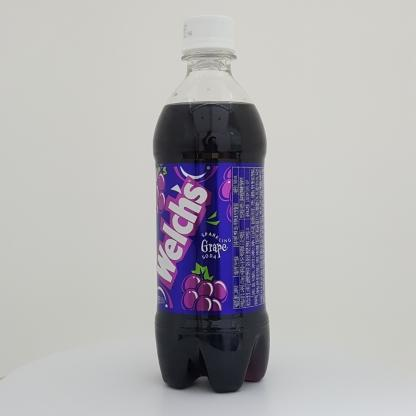-------500ml: (153, 15, 270, 393)
